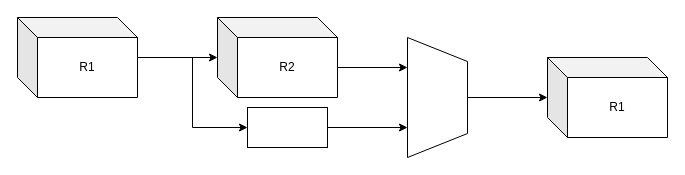
This 685x175 diagram has some shape labels left out. The box of each missing label's shape, as (x1, y1, x2, y2) in pixels:
concat: (406, 36, 468, 158)
池化: (246, 106, 328, 148)
